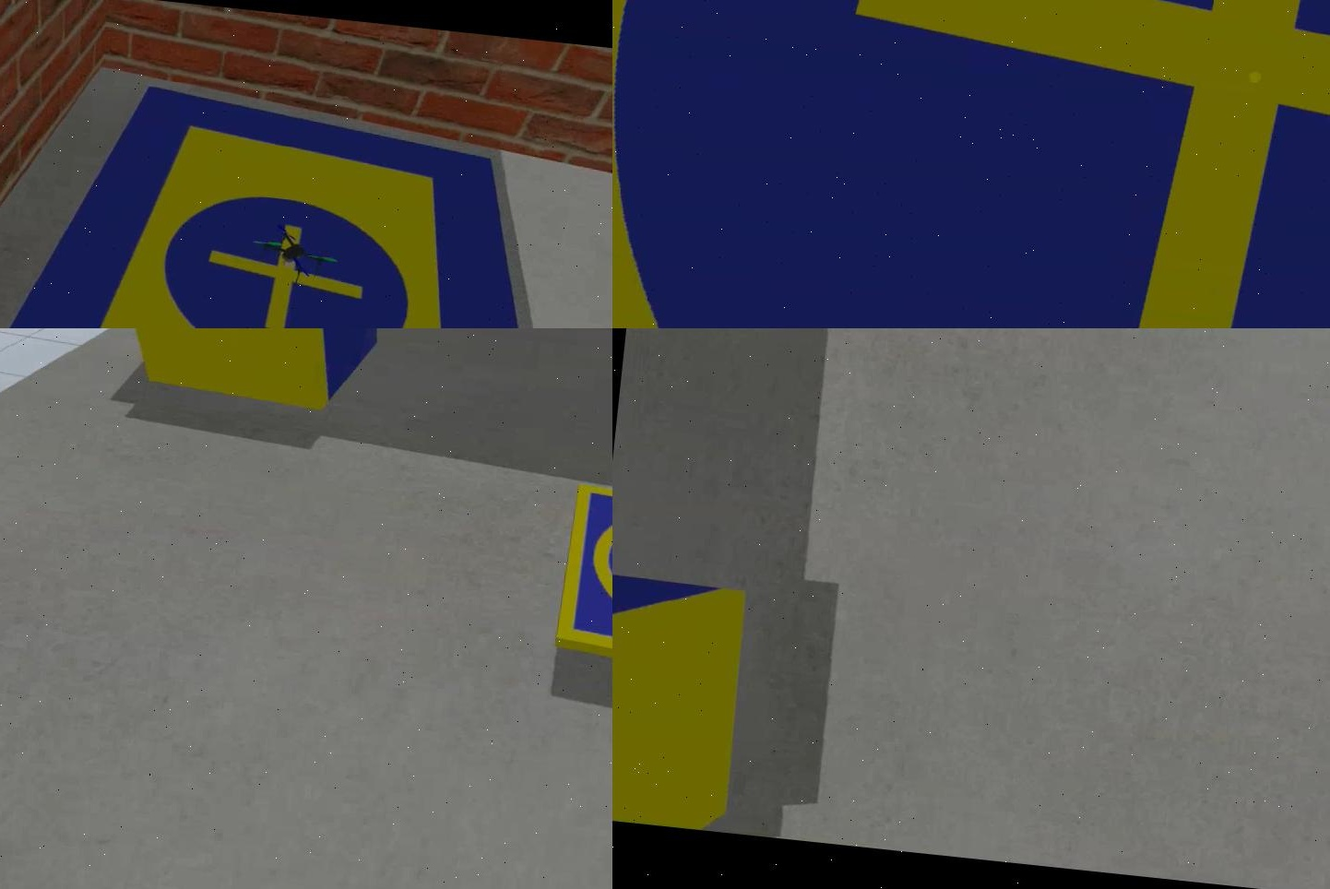large_base: (611, 1, 1328, 328), (0, 66, 611, 328)
